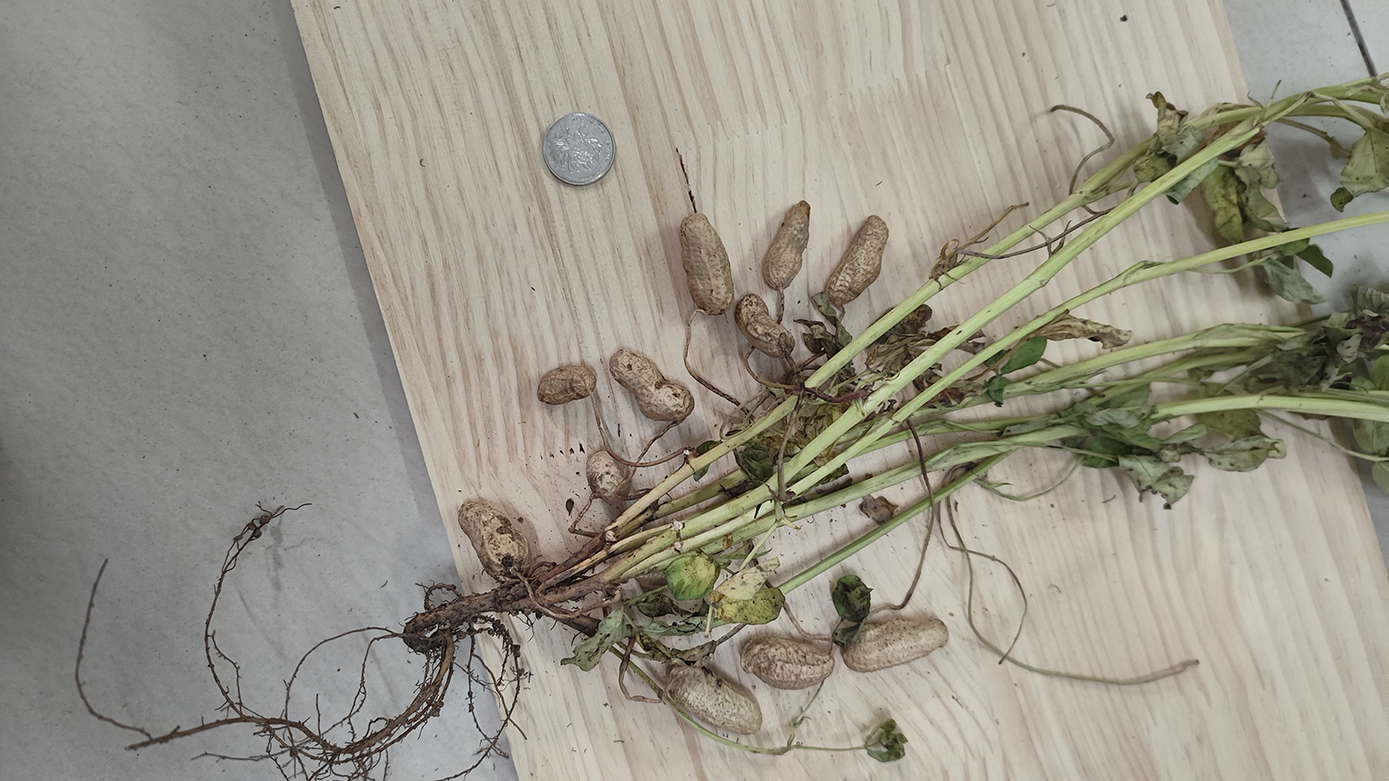h: (665, 660, 763, 735), (458, 500, 532, 584), (839, 617, 950, 672), (823, 213, 890, 304), (611, 348, 695, 420), (680, 212, 735, 313), (740, 636, 836, 688), (760, 199, 811, 291), (737, 293, 796, 355), (536, 364, 597, 404), (588, 450, 631, 502)
